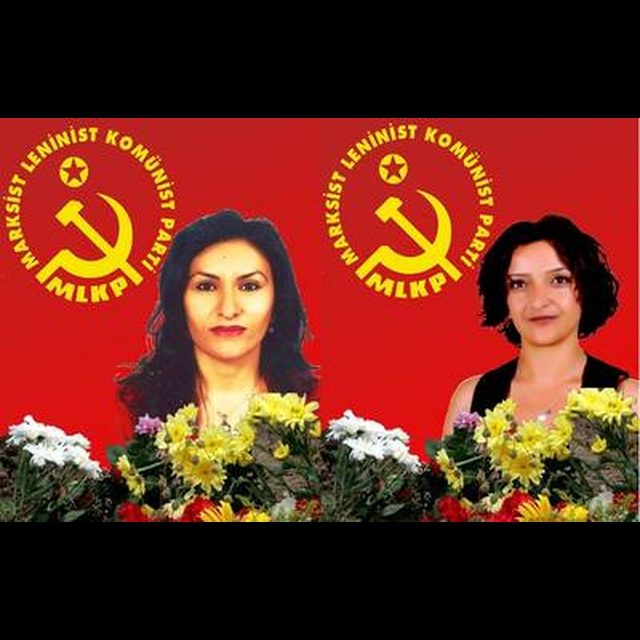MLKP: (323, 122, 496, 317), (4, 127, 177, 300)
